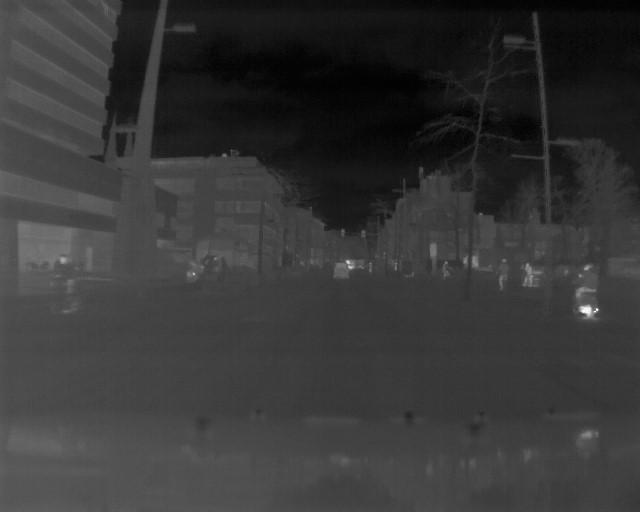car: (331, 260, 351, 278)
person: (53, 252, 79, 298), (576, 259, 597, 301), (496, 256, 510, 291), (521, 261, 534, 288), (440, 258, 450, 281)
